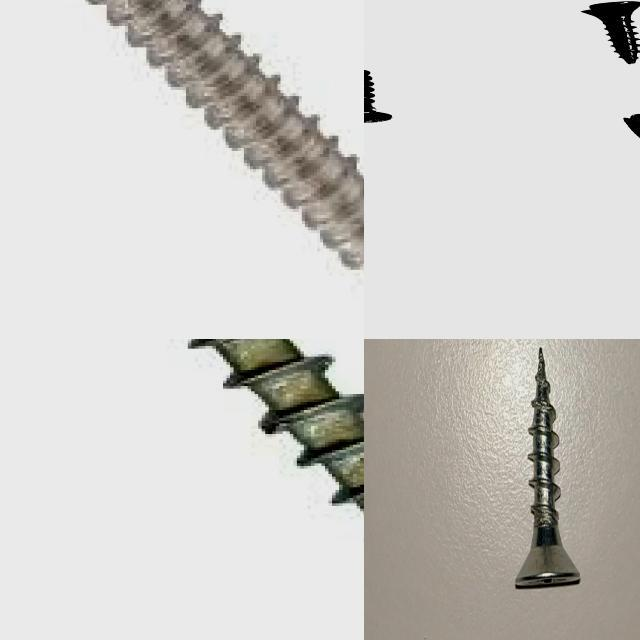Screw: (91, 0, 364, 277), (189, 339, 364, 510), (515, 346, 580, 587), (583, 1, 640, 64), (364, 67, 393, 123)
